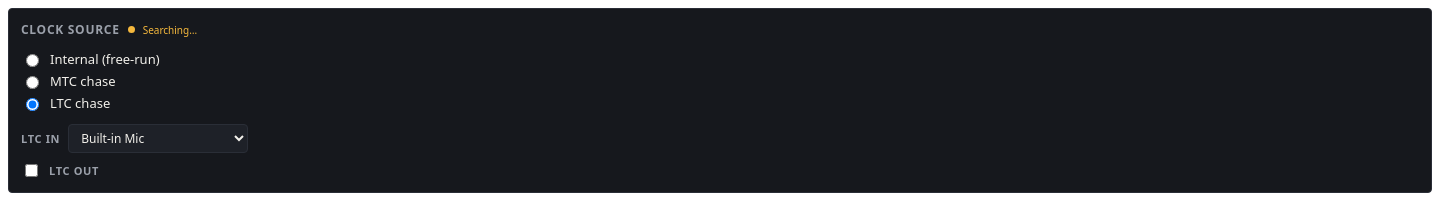
Test: ClockSourceSettings › mutual exclusivity: switching to MTC hides LTC-in picker
Expected: the dropdown with test id "ltc-in-device-select" is shown, left=68, top=124, right=248, bottom=153
Click the radio button with test id "clock-source-radio-mtc". click: (32, 82)
box: left=26, top=76, right=39, bottom=89
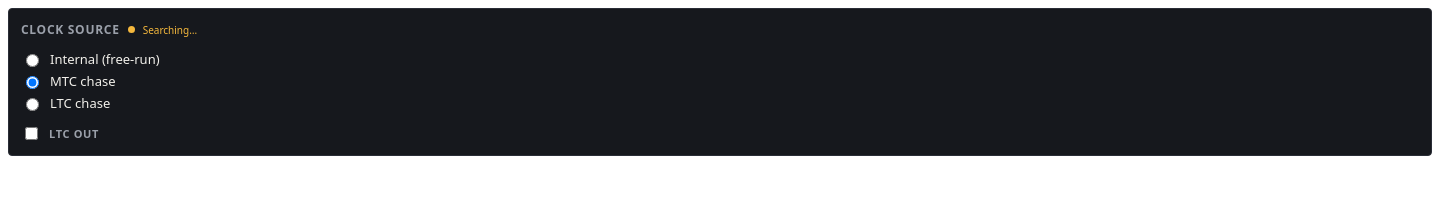
Now the dropdown with test id "ltc-in-device-select" is gone
